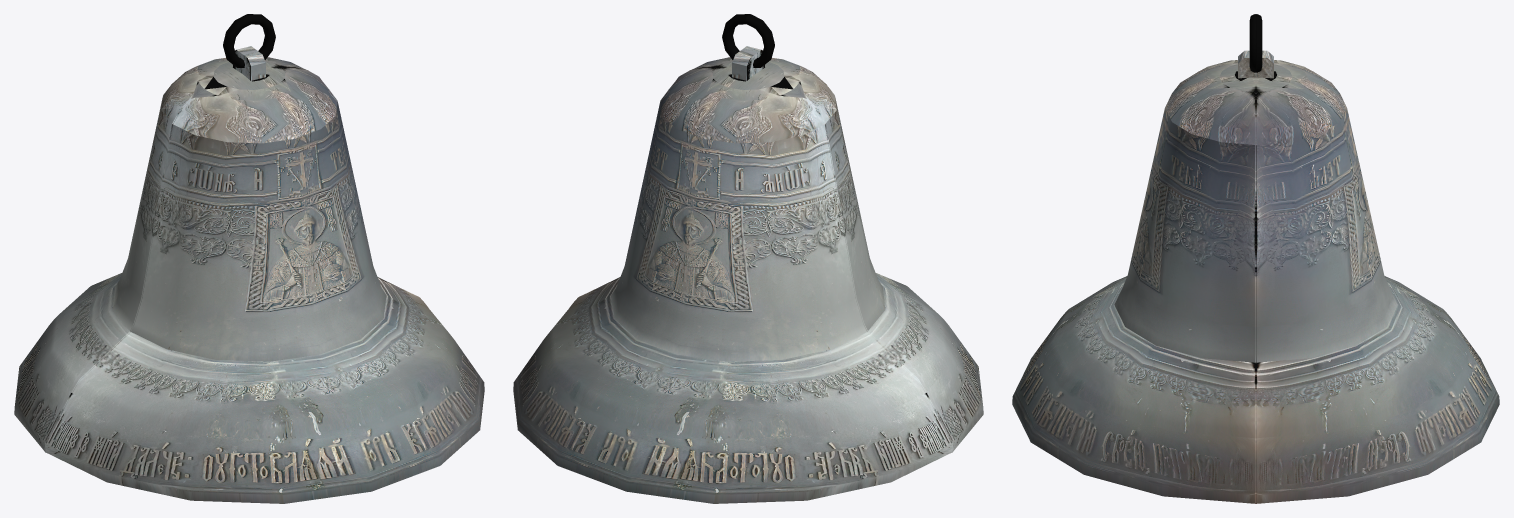
File: untitуцкled.fbx
3 views of the same model, side by side, from view 1: azimuth 30°, elevation 25°; view 2: azimuth 150°, elevation 25°; view 3: azimuth 270°, elevation 25° (orthographic).
Visible parts, largest first — view 1: Colocol.001; view 2: Colocol.001; view 3: Colocol.001.
Part boxes in pixels (x1,y1,x2,y2): Colocol.001: [14, 14, 484, 503]; Colocol.001: [513, 14, 983, 503]; Colocol.001: [1012, 14, 1499, 503].
Bounding box in the file's own units: 1.59 × 1.64 × 1.64.
Materials: 6 (4 with a texture image).
